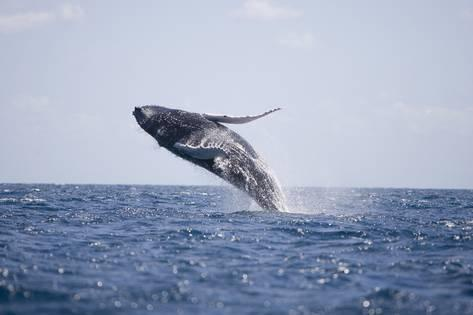humpback: (132, 104, 287, 210)
